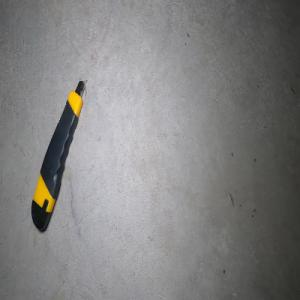Cutter: (30, 79, 85, 231)
